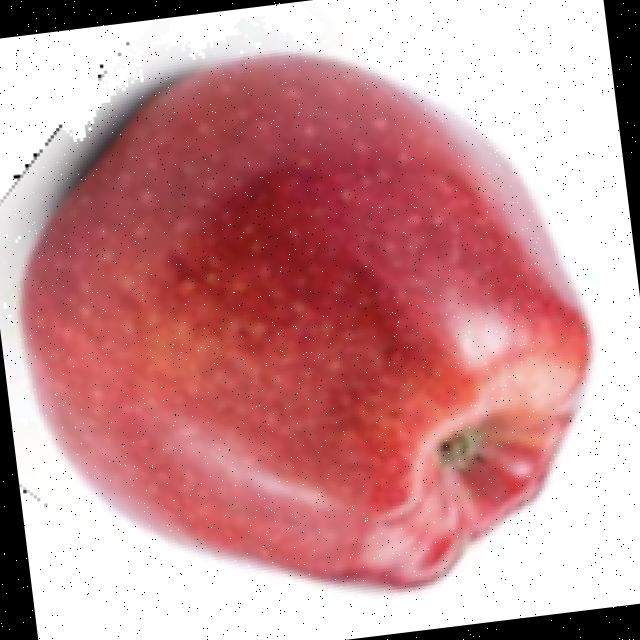apple: (0, 14, 601, 602)
